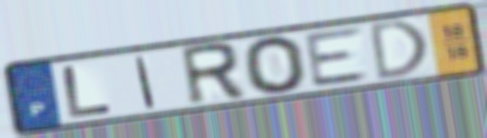D: (367, 17, 430, 84)
E: (302, 24, 373, 90)
I: (132, 54, 158, 110)
L: (58, 63, 116, 120)
O: (239, 34, 311, 97)
R: (177, 40, 250, 109)
